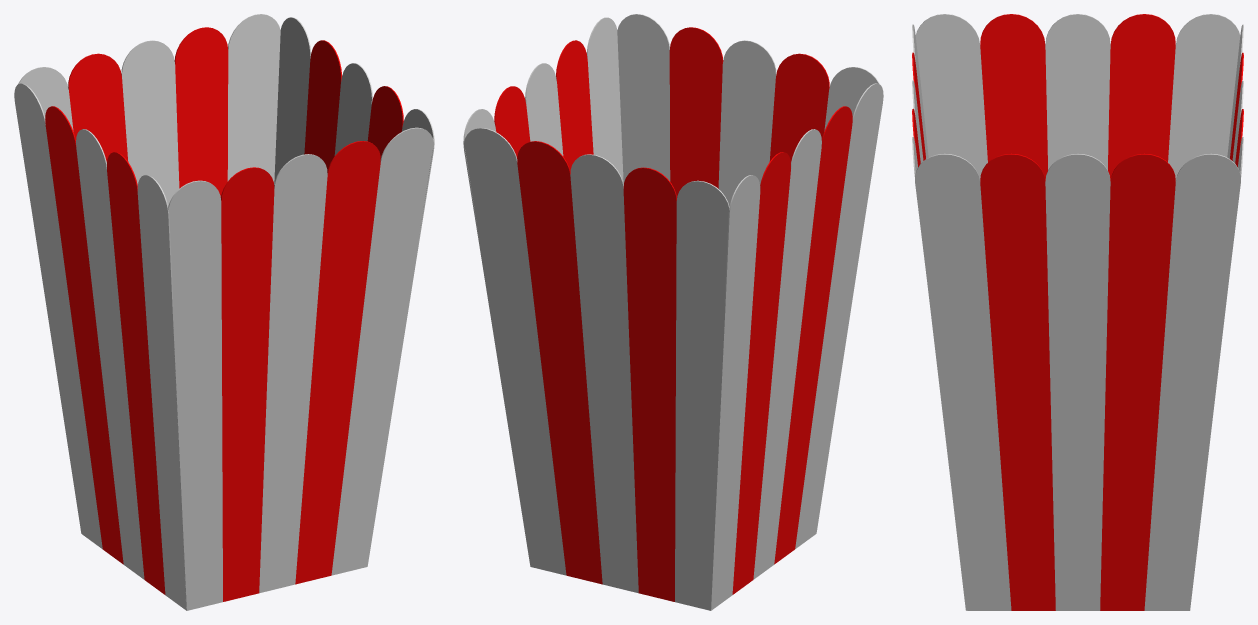
File: popcorn_bucket.glb
The picture shows the model from 3 angles, left to right: view 1: azimuth 30°, elevation 25°; view 2: azimuth 150°, elevation 25°; view 3: azimuth 270°, elevation 25°; orthographic projection. The views are drawn at different scales.
Visible parts, largest first — view 1: Rectangle007, Rectangle008, Rectangle009, Rectangle006, Rectangle010, Rectangle025, Rectangle021, Rectangle022, Rectangle023, Rectangle024, Rectangle017, Rectangle016 (+8 smaller); view 2: Rectangle017, Rectangle019, Rectangle018, Rectangle020, Rectangle016, Rectangle021, Rectangle025, Rectangle024, Rectangle023, Rectangle022, Rectangle009, Rectangle010 (+8 smaller); view 3: Rectangle013, Rectangle015, Rectangle012, Rectangle014, Rectangle011, Rectangle024, Rectangle022, Rectangle023, Rectangle021, Rectangle025, Rectangle016, Rectangle010 (+2 smaller).
Boxes of the visible parts, x1,y1,x2,y2 form: Rectangle007: (221,167,274,601); Rectangle008: (259,154,327,593); Rectangle009: (295,141,380,584); Rectangle006: (168,180,222,610); Rectangle010: (331,127,433,575); Rectangle025: (137,175,186,610); Rectangle021: (14,83,102,548); Rectangle022: (45,106,123,564); Rectangle023: (76,129,144,579); Rectangle024: (107,152,165,594); Rectangle017: (174,27,228,197); Rectangle016: (227,14,280,184); Rectangle017: (517,141,602,584); Rectangle019: (623,167,676,601); Rectangle018: (570,154,638,593); Rectangle020: (675,180,729,610); Rectangle016: (464,127,566,575); Rectangle021: (711,175,760,609); Rectangle025: (795,83,883,549); Rectangle024: (774,106,852,564); Rectangle023: (753,129,821,579); Rectangle022: (732,152,790,594); Rectangle009: (669,27,723,197); Rectangle010: (617,14,670,185); Rectangle013: (1045,154,1110,610); Rectangle015: (1144,153,1240,610); Rectangle012: (980,153,1055,610); Rectangle014: (1100,153,1175,610); Rectangle011: (915,153,1011,610); Rectangle024: (980,14,1047,180); Rectangle022: (1108,14,1175,180); Rectangle023: (1045,14,1110,169); Rectangle021: (1168,14,1240,181); Rectangle025: (915,14,987,181); Rectangle016: (1189,137,1243,610); Rectangle010: (912,137,966,610).
Bounding box in the file's own units: 0.1324 × 0.2109 × 0.132.
